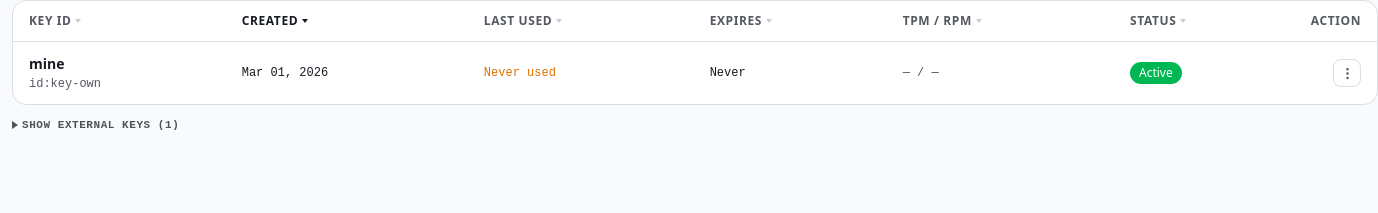
Test: KeysTable — keys minted elsewhere › hides external keys by default behind a count toggle
Check: the text "mine" is shown, box [29, 54, 64, 74]
Check: the text "ach-bot" is not shown
Click the button "Show external keys (1)" at (96, 125), box [12, 117, 179, 134]
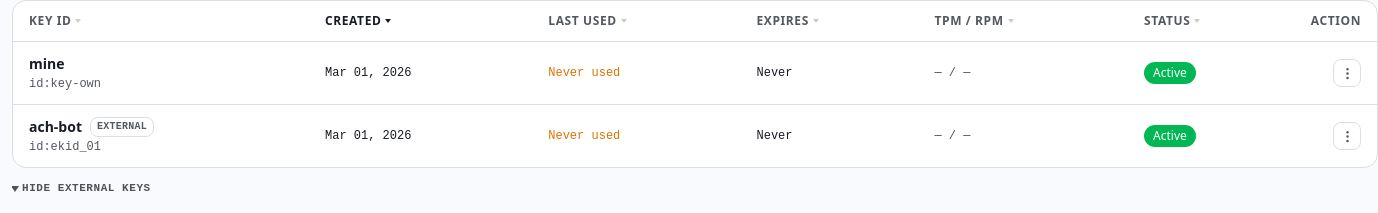
Check: the text "ach-bot" is shown, box [29, 117, 82, 137]
Click the button "Hide external keys" at (81, 189), box [12, 180, 151, 197]
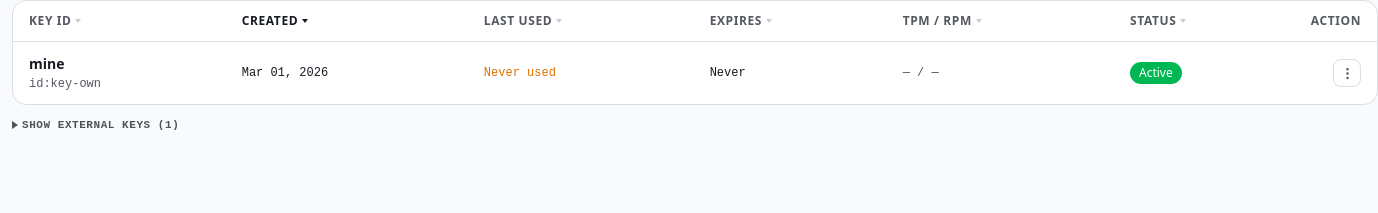
Check: the text "ach-bot" is gone
